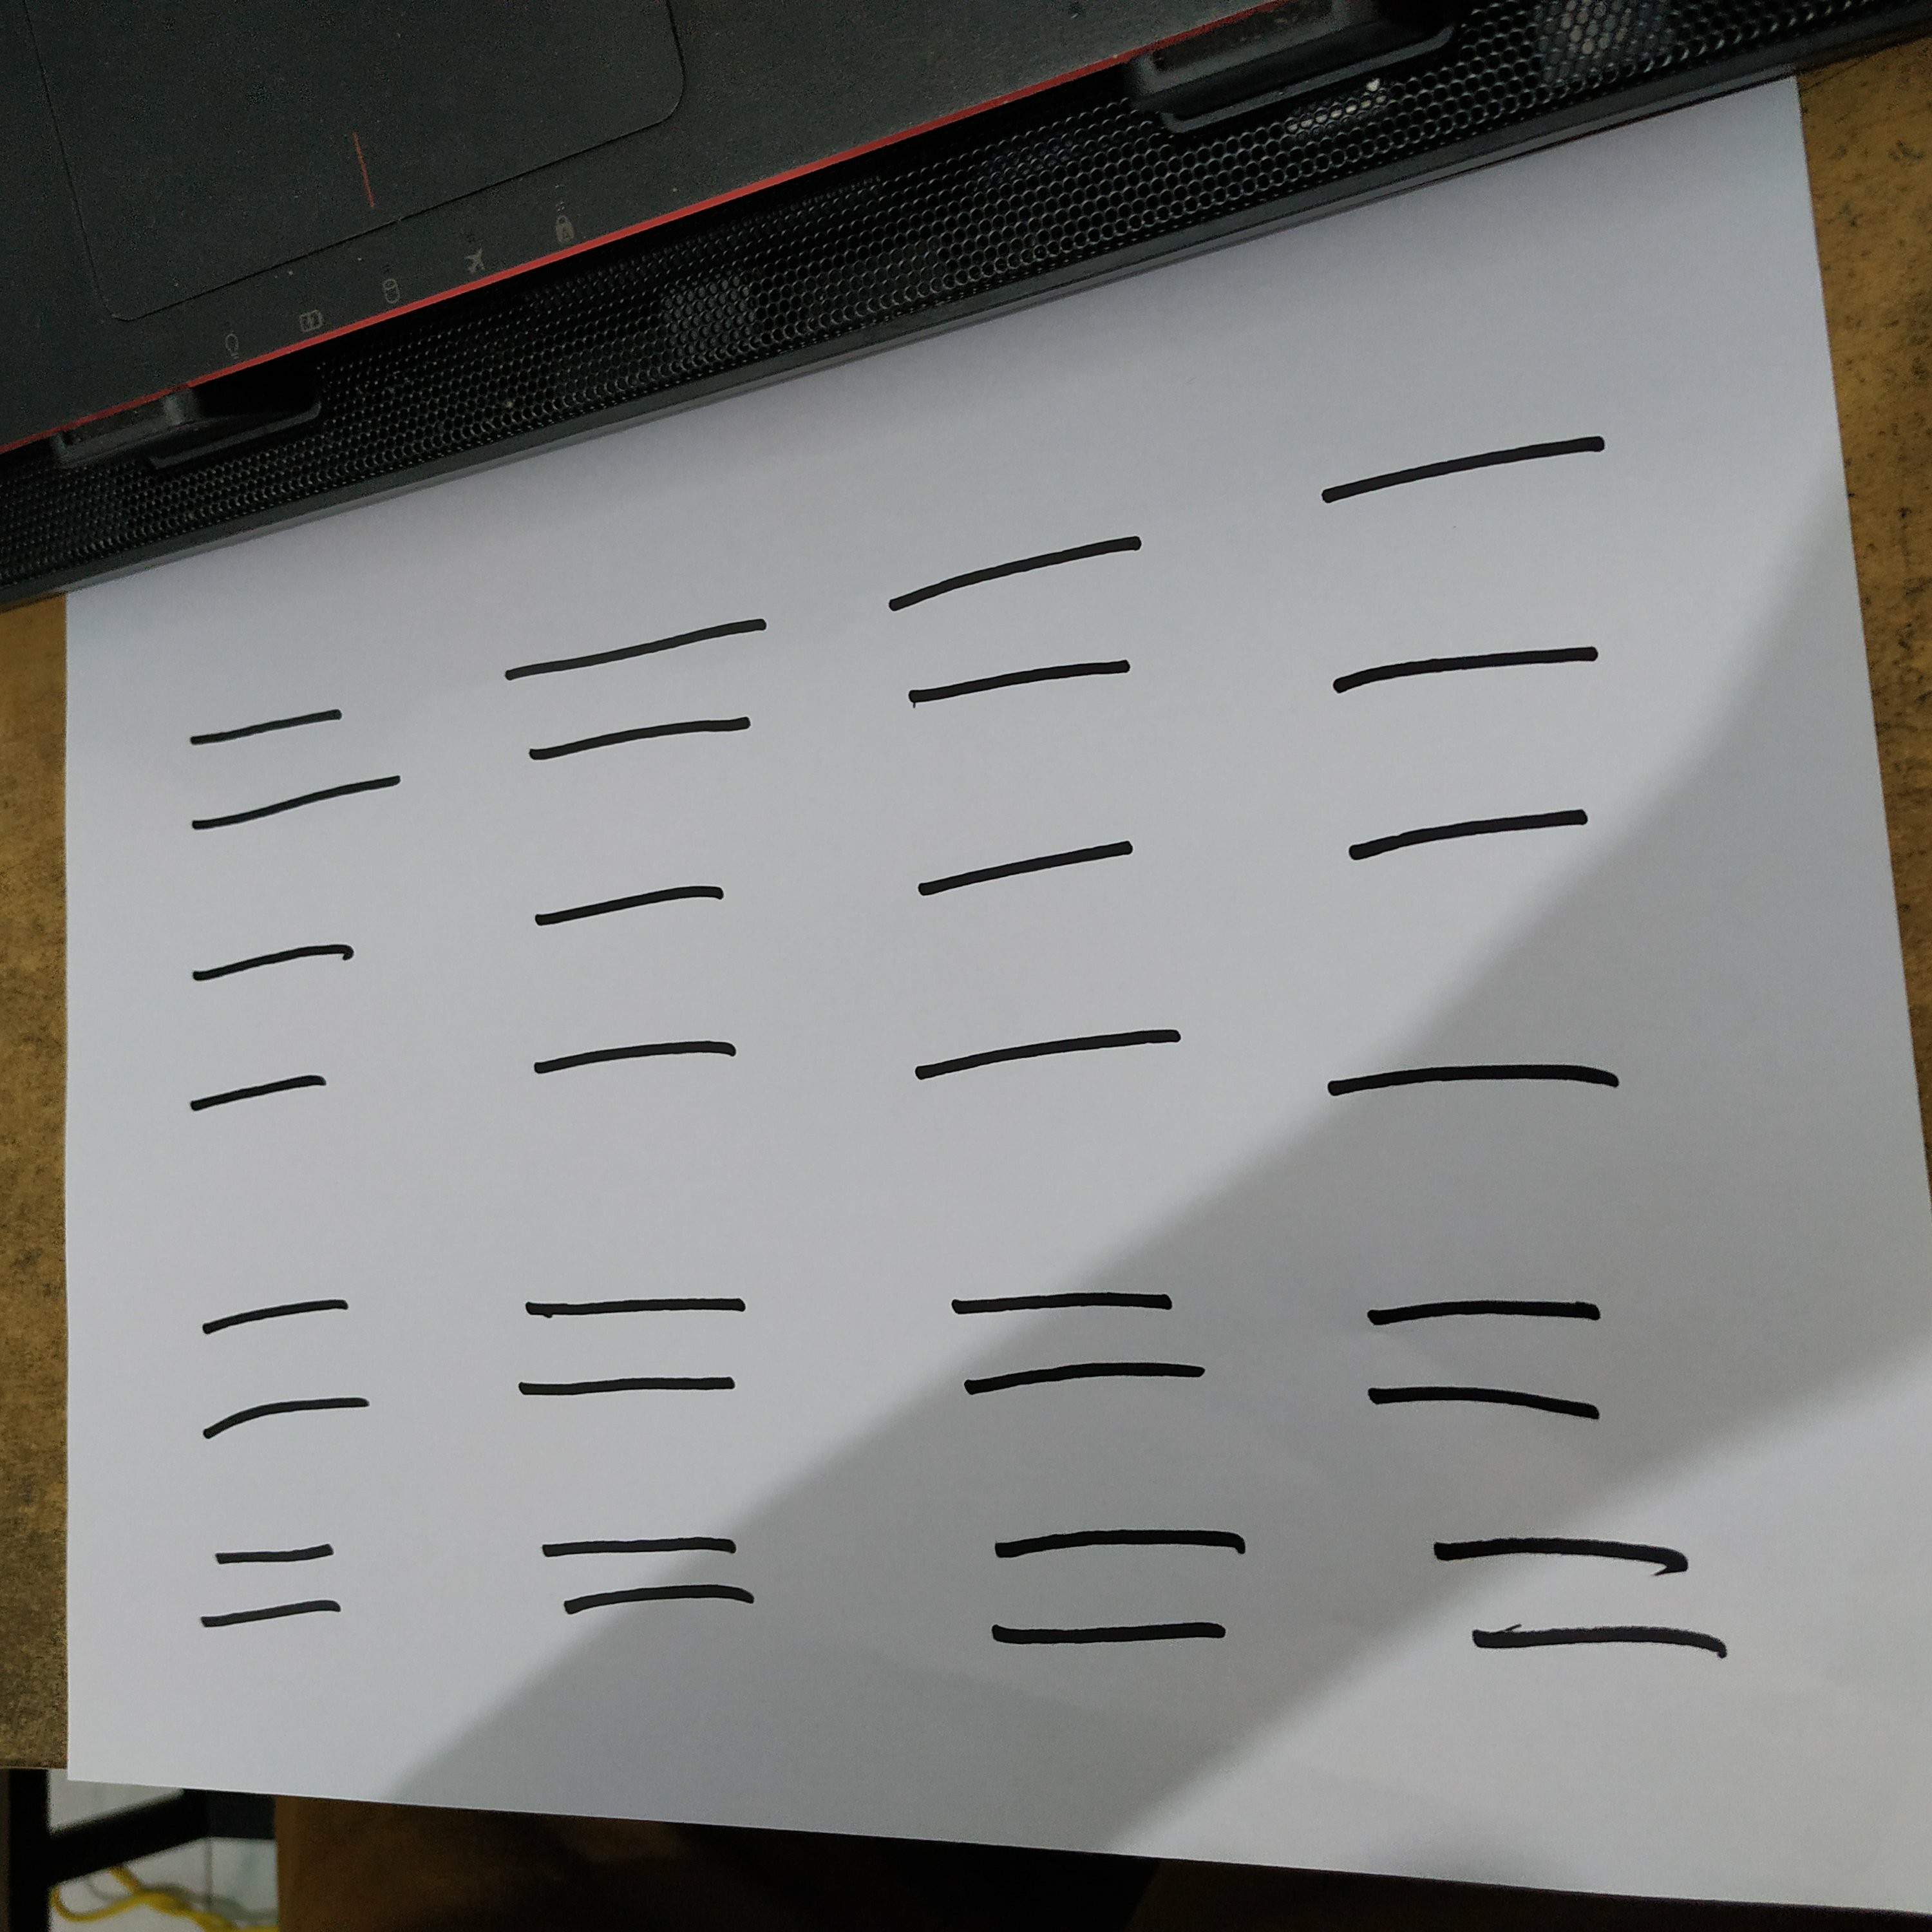equal: (1295, 798, 1678, 1132), (884, 817, 1215, 1102), (1298, 425, 1627, 708), (493, 858, 772, 1102), (1329, 1270, 1686, 1454), (868, 522, 1198, 717), (1397, 1508, 1754, 1683), (944, 1502, 1302, 1676), (909, 1266, 1266, 1430), (472, 614, 802, 772), (148, 692, 439, 846), (167, 1276, 406, 1463), (158, 929, 368, 1117), (497, 1278, 761, 1420), (527, 1512, 782, 1643), (173, 1518, 378, 1654)
